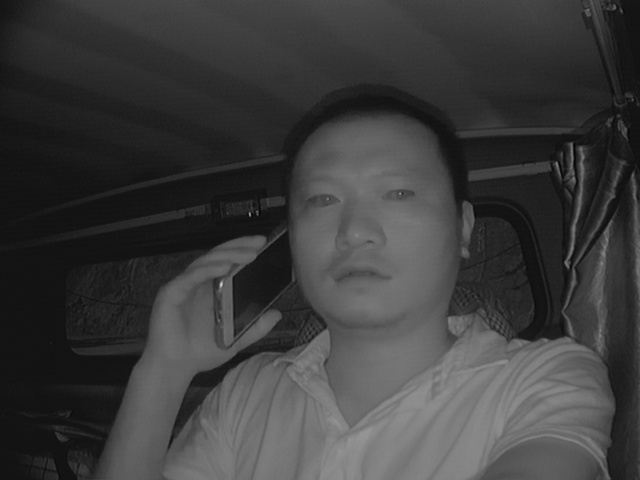hand: (149, 231, 277, 362)
